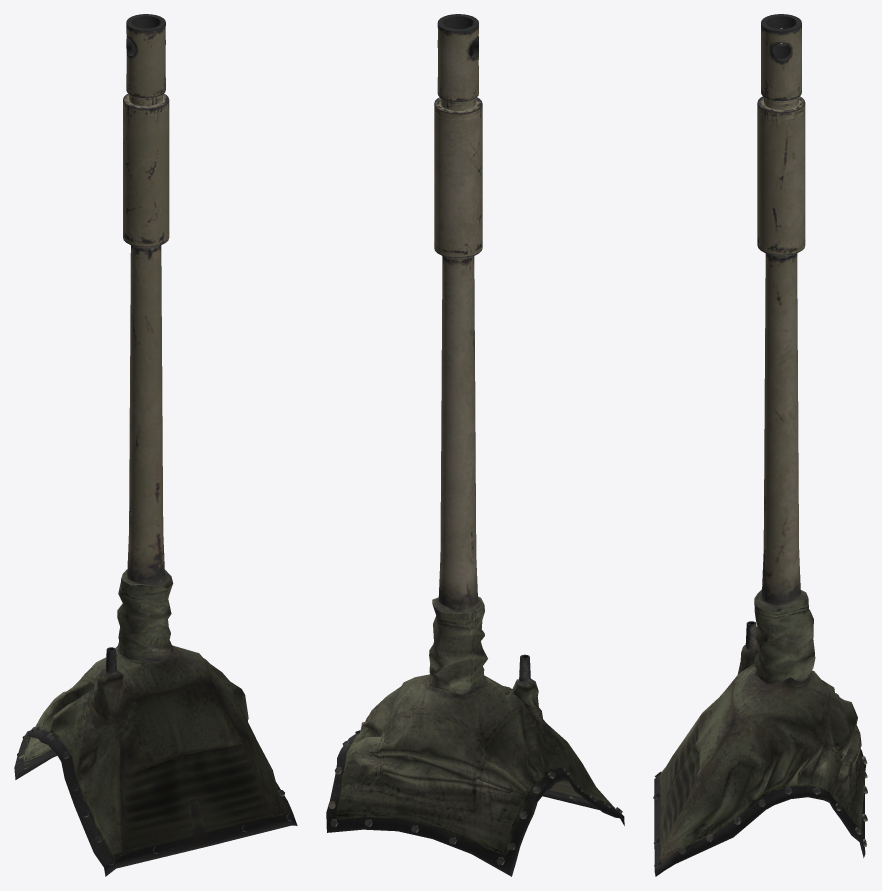
Rendered from Gun_01.glb.
3 renders of one model, left to right at view 1: azimuth 30°, elevation 25°; view 2: azimuth 150°, elevation 25°; view 3: azimuth 270°, elevation 25°, orthographic. The views are drawn at different scales.
Visible parts, largest first — view 1: set_0_group_0; view 2: set_0_group_0; view 3: set_0_group_0.
Boxes of the visible parts, box(x1,y1,x2,y2) form: set_0_group_0: box(14, 14, 297, 876); set_0_group_0: box(326, 14, 624, 876); set_0_group_0: box(653, 14, 867, 876).
Size of the model in its own units: 1.01 by 3.89 by 0.9309.
Materials: 1 (1 with a texture image).
